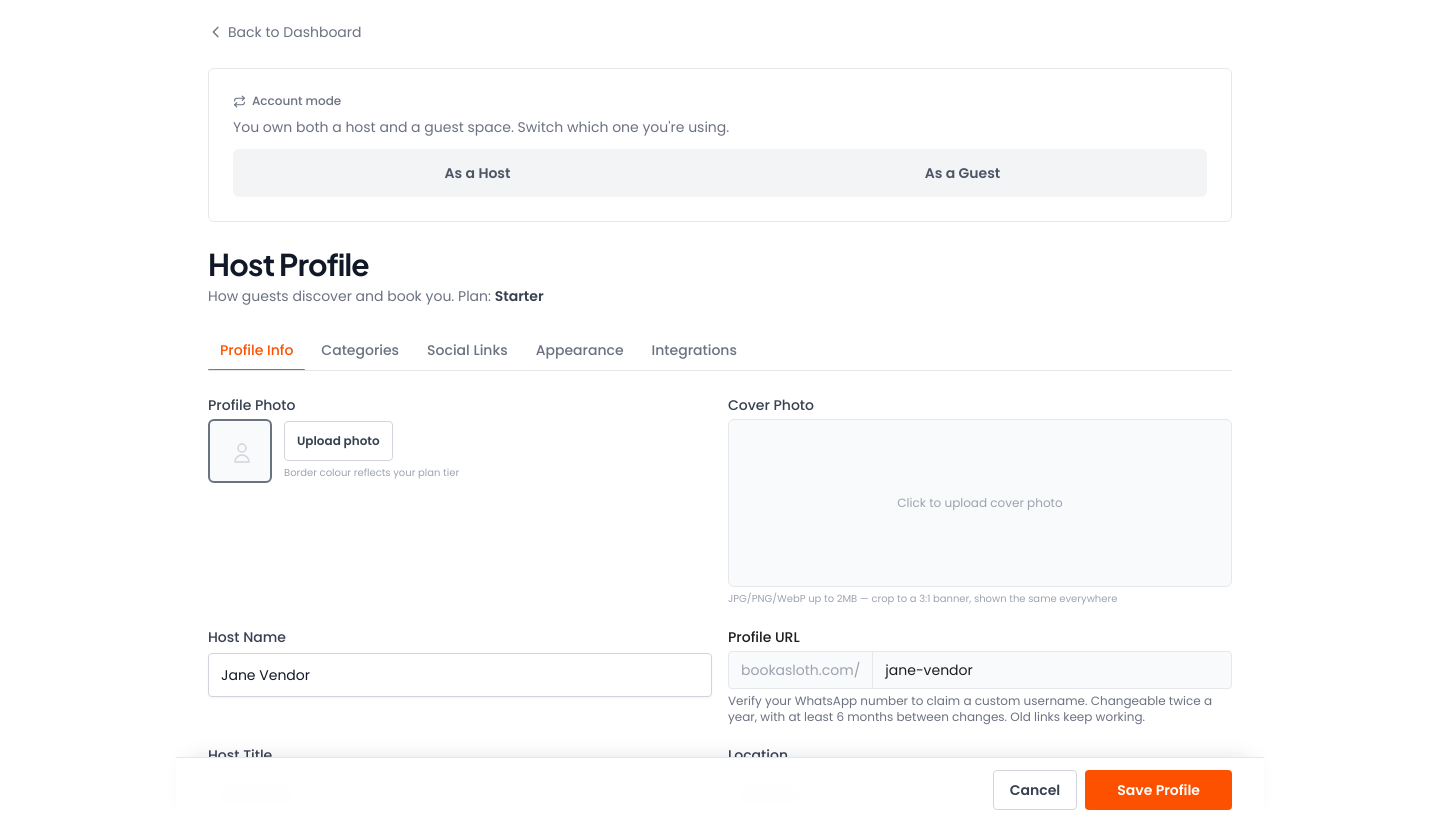
Test: ProfileSetup — tab navigation › clicking Appearance tab shows theme color section
Click the tab "Appearance". click: (580, 350)
box: [524, 330, 636, 370]
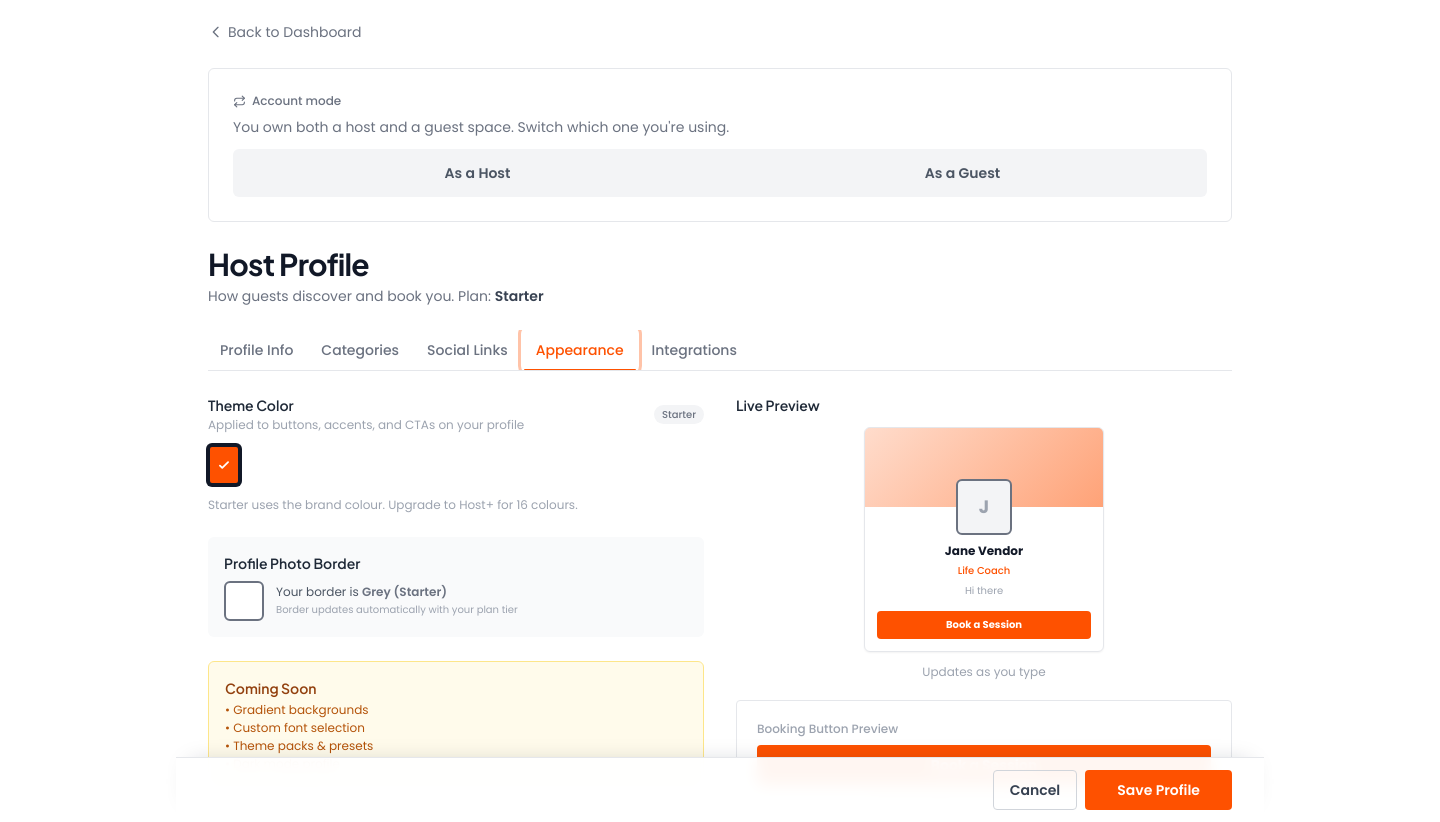
Result: the heading "Theme Color" is shown at [208, 396, 294, 414]
Result: the heading "Live Preview" is shown at [736, 396, 820, 414]
